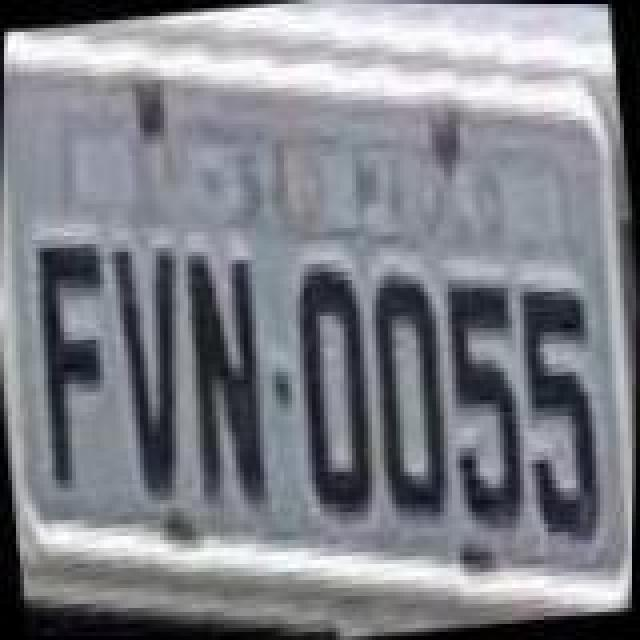5: (510, 274, 618, 550), (430, 272, 538, 540)
F: (24, 234, 132, 494)
N: (174, 240, 282, 516)
O: (360, 268, 464, 528), (282, 258, 382, 526)
V: (104, 234, 204, 506)
